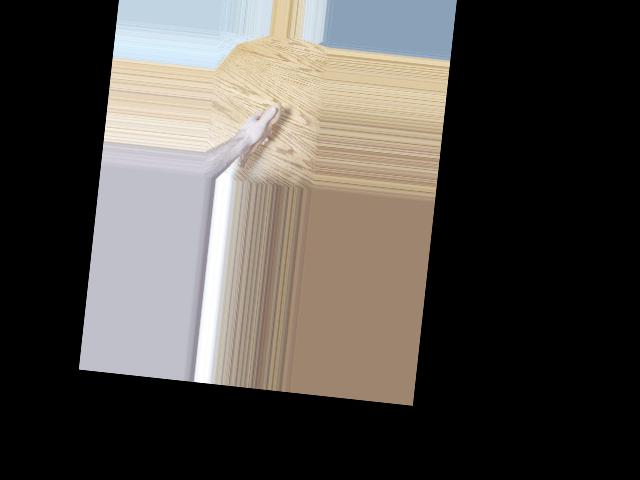sweet_potato: (235, 102, 280, 173)
